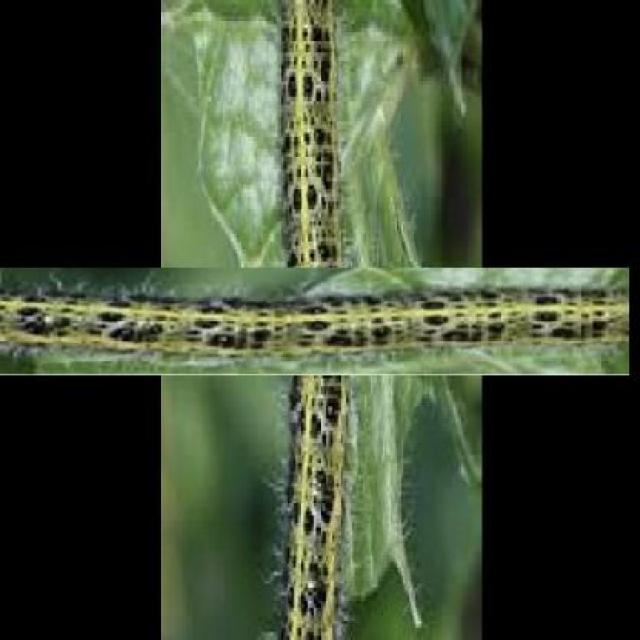Plaga: (126, 135, 500, 509)
